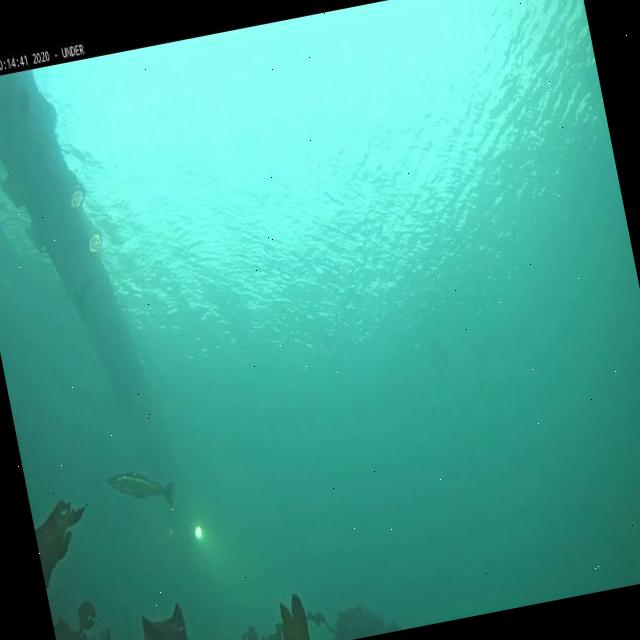fish: (105, 462, 179, 518), (72, 278, 95, 310)
